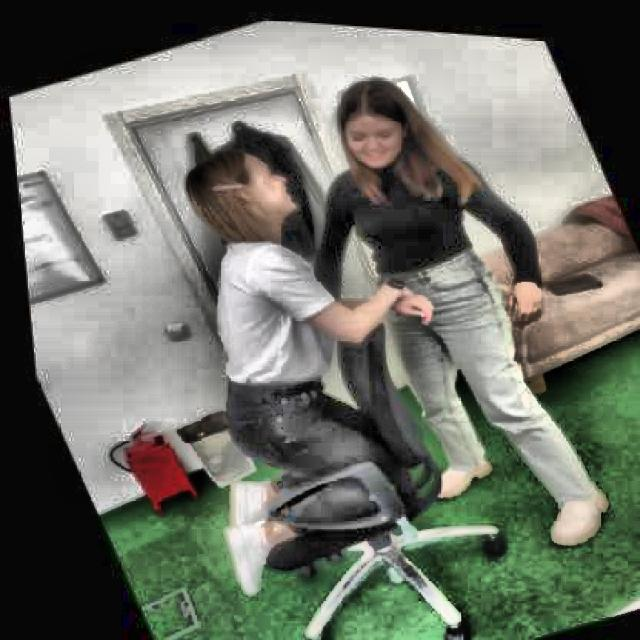cadeira: (146, 260, 542, 638)
